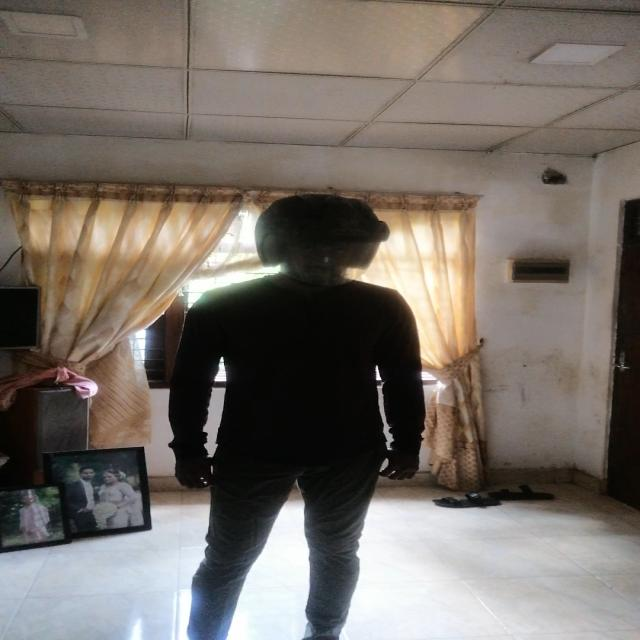Helmet_Wearer: (236, 191, 396, 300)
Person: (164, 183, 444, 632)
